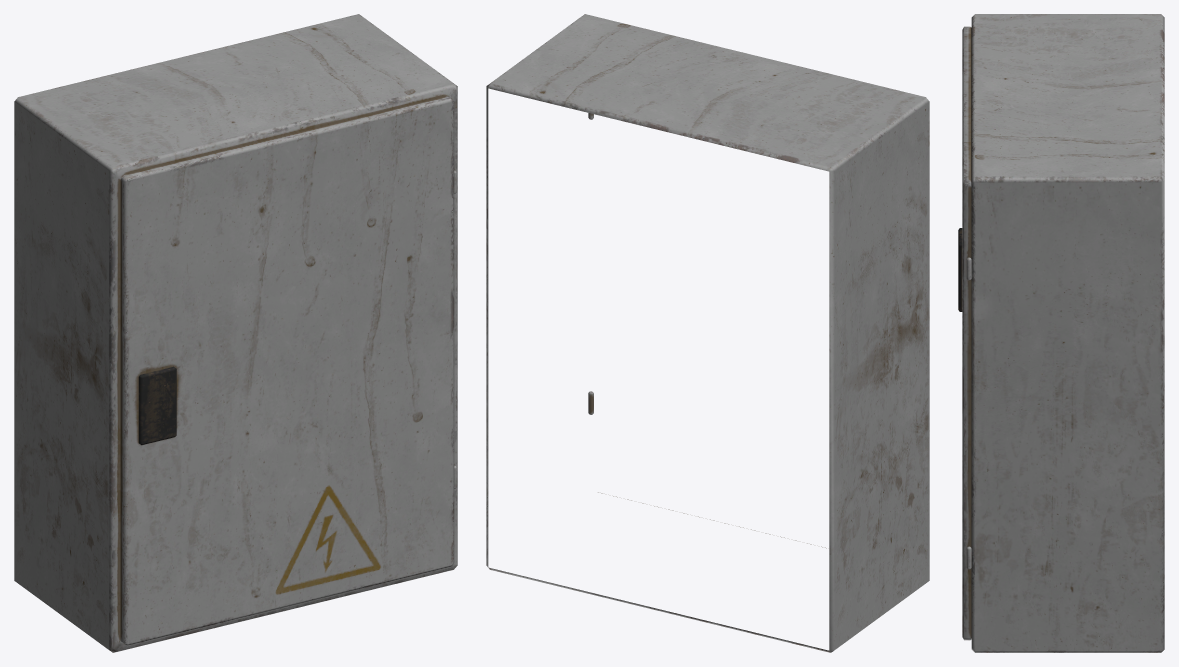
The model's file is SM_electric_box_l.gltf.
The picture shows the model from 3 angles, left to right: view 1: azimuth 30°, elevation 25°; view 2: azimuth 150°, elevation 25°; view 3: azimuth 270°, elevation 25°; orthographic projection. The views are drawn at different scales.
Visible parts, largest first — view 1: SM_electric_box_l; view 2: SM_electric_box_l; view 3: SM_electric_box_l.
Boxes of the visible parts, x1,y1,x2,y2 form: SM_electric_box_l: (14, 14, 457, 652); SM_electric_box_l: (486, 14, 929, 652); SM_electric_box_l: (958, 14, 1164, 652).
Bounding box in the file's own units: 0.7087 × 0.945 × 0.3713.
Materials: 1 (1 with a texture image).
